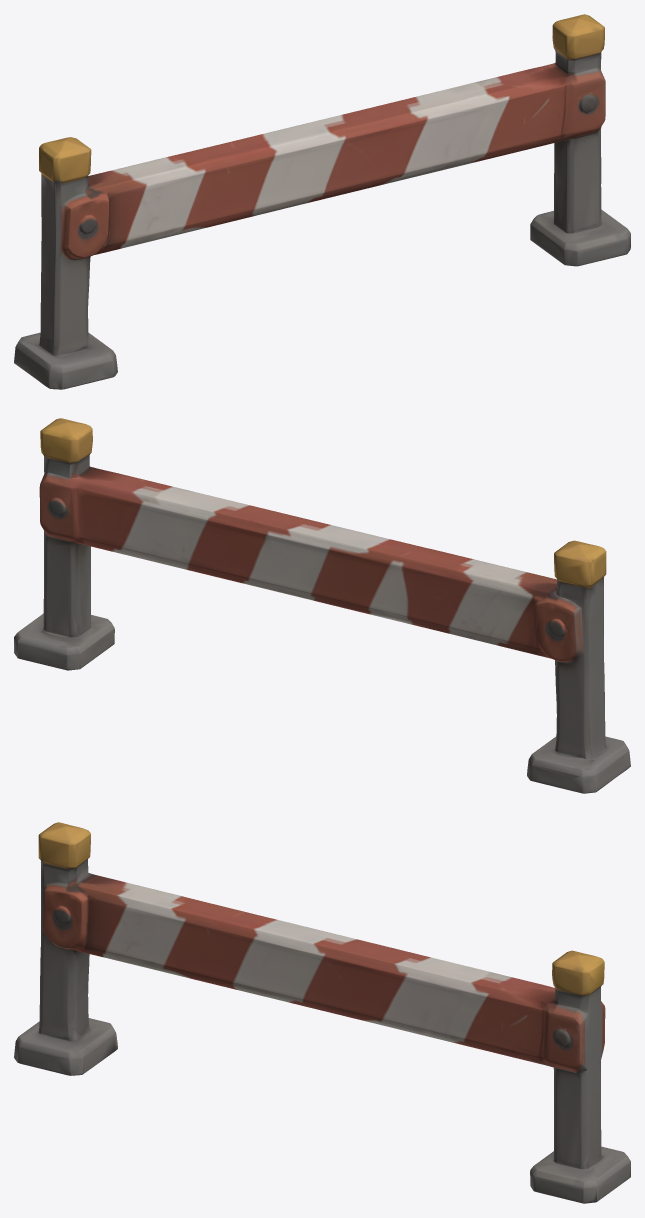
The model's file is barrier.fbx.
3 renders of one model, top to bottom at view 1: azimuth 30°, elevation 25°; view 2: azimuth 150°, elevation 25°; view 3: azimuth 330°, elevation 25°, orthographic.
Visible parts, largest first — view 1: barrier; view 2: barrier; view 3: barrier.
Part boxes in pixels (<box>): barrier: <box>14,14,630,389</box>; barrier: <box>14,418,630,793</box>; barrier: <box>14,822,630,1203</box>.
Size of the model in its own units: 54.22 by 20.43 by 7.14.
Materials: 1 (1 with a texture image).
